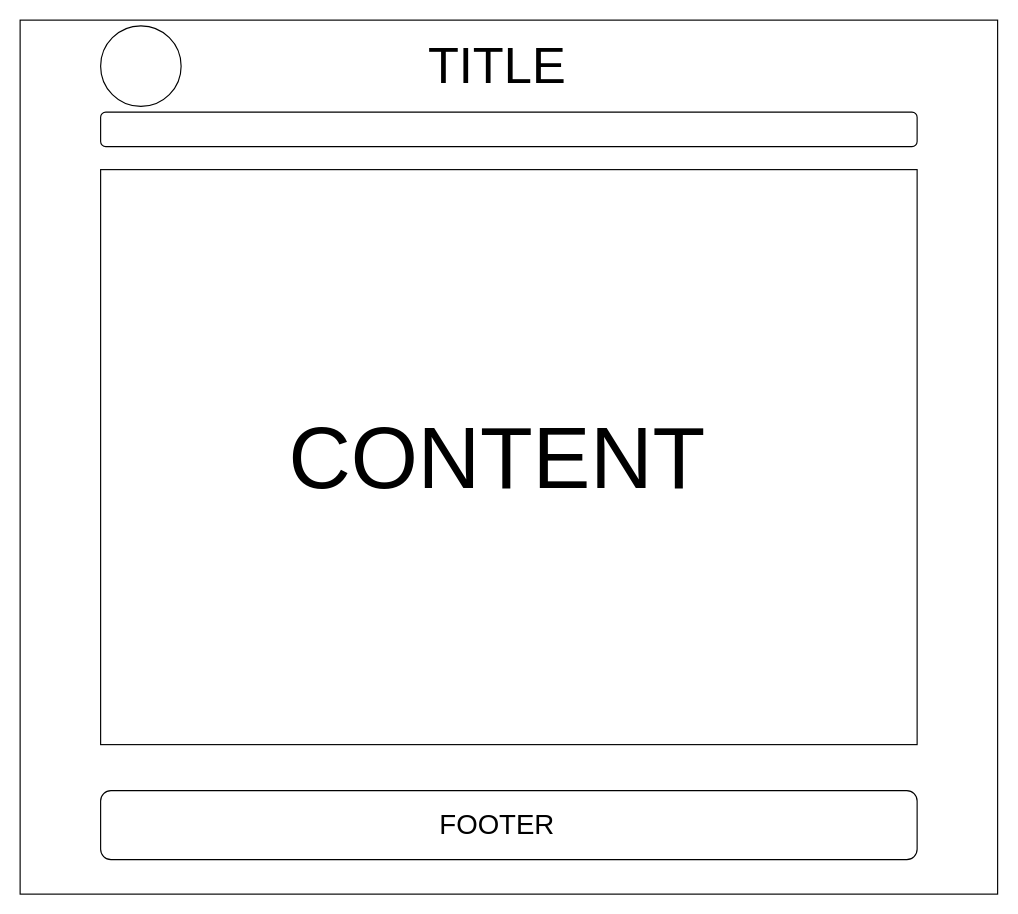
Image size: 1018x914. Some labels were removed from this diagram. Each missing label, with the box of its shape:
LOGO: (99, 25, 181, 106)
NAVBAR: (99, 111, 917, 147)
